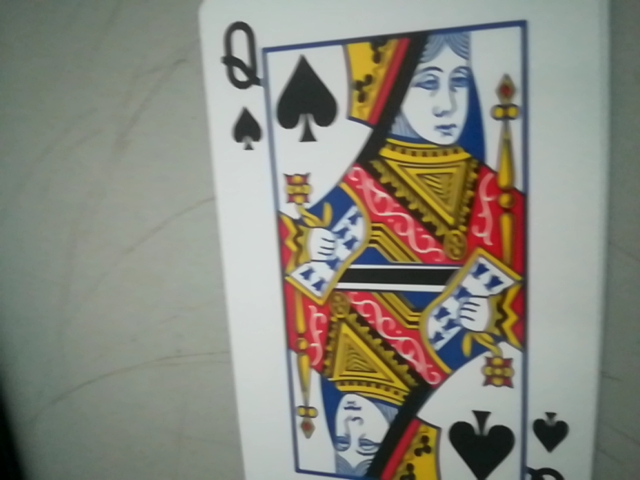ht q: (205, 14, 277, 158)
